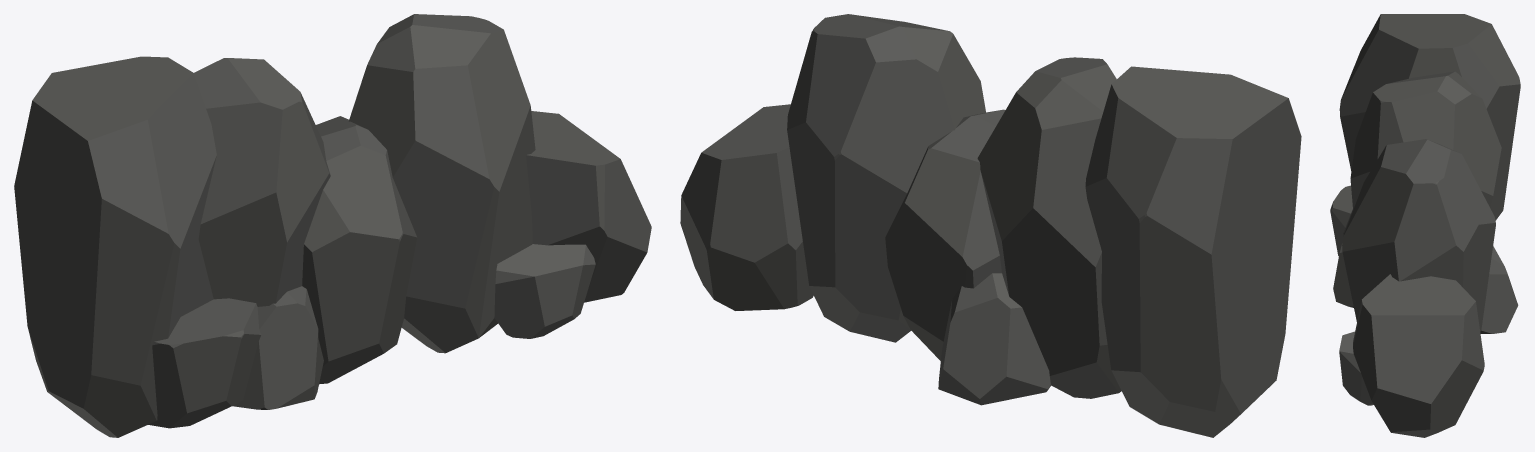
File: SM_Envr_Nature_Rock_Group_04.fbx
The picture shows the model from 3 angles, left to right: view 1: azimuth 30°, elevation 25°; view 2: azimuth 150°, elevation 25°; view 3: azimuth 270°, elevation 25°; orthographic projection. The views are drawn at different scales.
Parts seen in each view (by area): view 1: SM_Envr_Nature_Rock_Group_04; view 2: SM_Envr_Nature_Rock_Group_04; view 3: SM_Envr_Nature_Rock_Group_04.
Boxes of the visible parts, x1,y1,x2,y2 form: SM_Envr_Nature_Rock_Group_04: (14, 14, 651, 437); SM_Envr_Nature_Rock_Group_04: (680, 14, 1301, 437); SM_Envr_Nature_Rock_Group_04: (1330, 14, 1520, 437).
Bounding box in the file's own units: 644 × 370 × 247.
